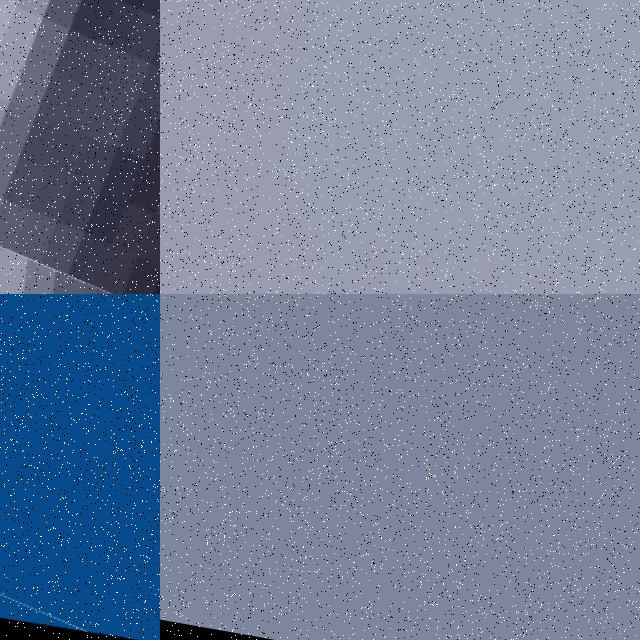0: (0, 0, 160, 294)
drone: (0, 294, 160, 640)
